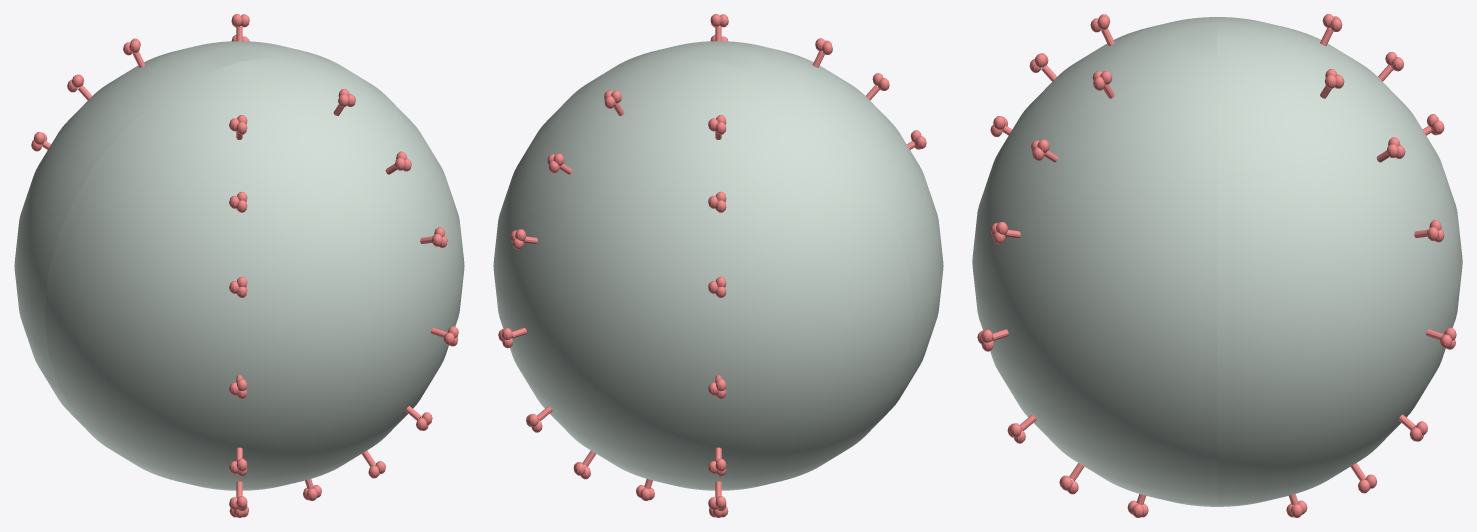
Rendered from hiv_virion_cutaway.glb.
3 views of the same model, side by side, from view 1: azimuth 30°, elevation 25°; view 2: azimuth 150°, elevation 25°; view 3: azimuth 270°, elevation 25° (orthographic). The views are drawn at different scales.
Parts seen in each view (by area): view 1: envelope-front, envelope-back, spikes-front, spikes-back; view 2: envelope-back, envelope-front, spikes-back, spikes-front; view 3: envelope-back, envelope-front, spikes-front, spikes-back.
Part boxes in pixels (x1,y1,x2,y2): envelope-front: (44,56,464,490); envelope-back: (14,41,374,442); spikes-front: (229,89,458,517); spikes-back: (31,14,249,151); envelope-back: (493,56,913,490); envelope-front: (583,41,943,442); spikes-back: (498,90,728,517); spikes-front: (710,14,926,149); envelope-back: (1217,17,1462,506); envelope-front: (972,17,1217,506); spikes-front: (977,14,1148,517); spikes-back: (1286,14,1456,517).
Size of the model in its own units: 0.3 by 0.3097 by 0.3.
